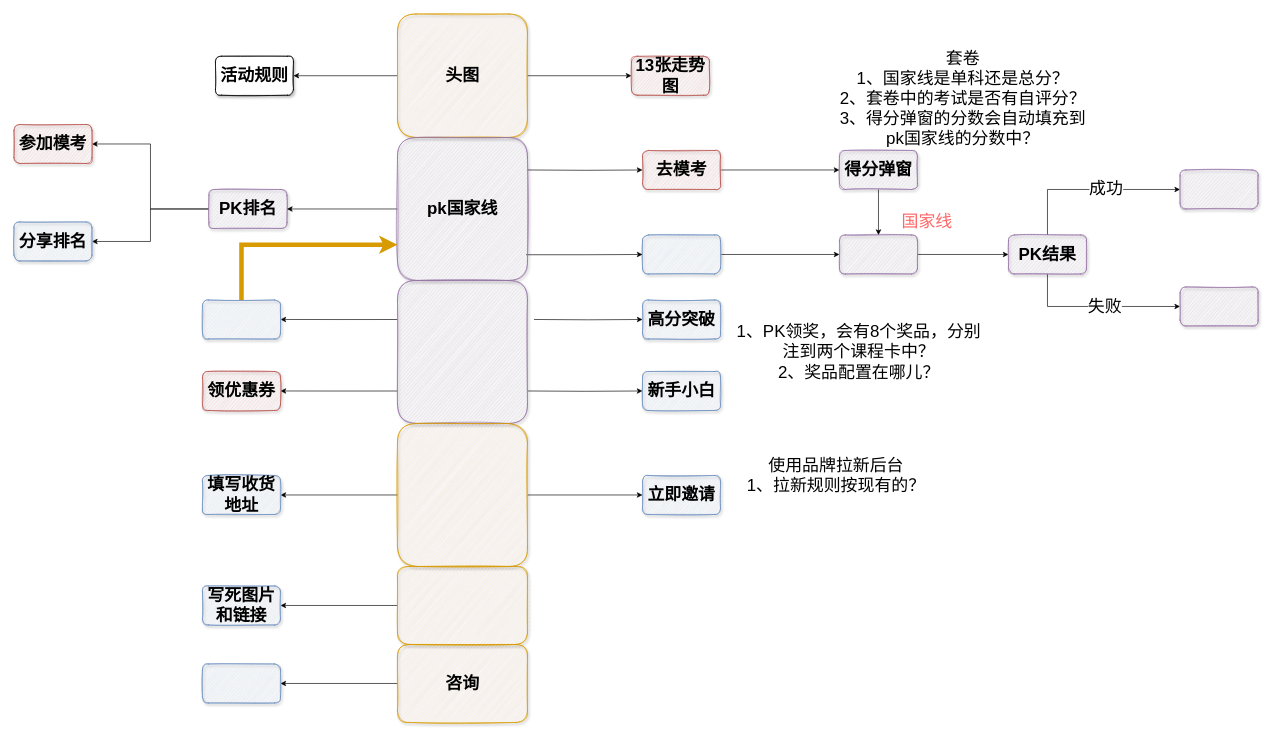
Image size: 1273x738. Some labels were removed from this diagram. Here are the shapes that lost their labels. From the top down, the centre of each, then its label:
At pixel 1219 190: "领攻略".
At pixel 681 255: "自估分分数参与pk".
At pixel 878 255: "PK".
At pixel 241 320: "去PK".
At pixel 1219 307: "领指南".
At pixel 462 352: "我的奖品池".
At pixel 462 495: "晒上上上签".
At pixel 462 606: "推广".
At pixel 241 684: "咨询组件".
